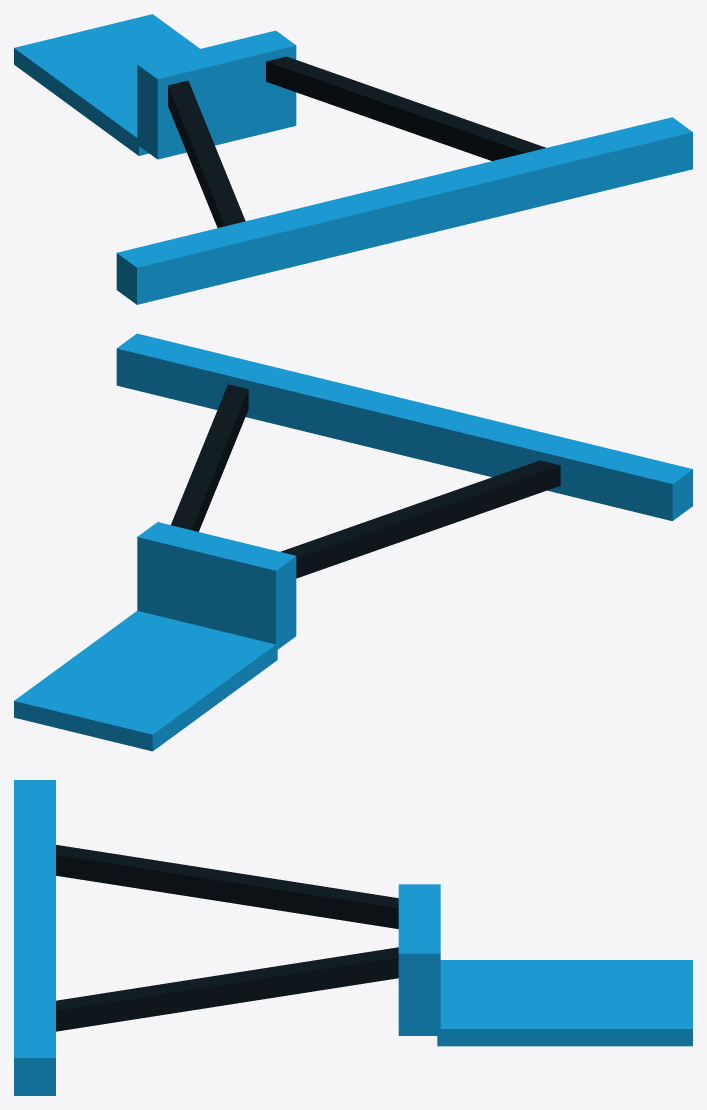
The picture shows the model from 3 angles, top to bottom: view 1: azimuth 30°, elevation 25°; view 2: azimuth 150°, elevation 25°; view 3: azimuth 270°, elevation 25°; orthographic projection. The views are drawn at different scales.
Parts seen in each view (by area): view 1: trailer; view 2: trailer; view 3: trailer.
Boxes of the visible parts, left/top/right/bottom form: trailer: left=14, top=14, right=692, bottom=304; trailer: left=14, top=333, right=692, bottom=751; trailer: left=14, top=780, right=692, bottom=1095.
Bounding box in the file's own units: 9.5 × 1.48 × 9.82.
